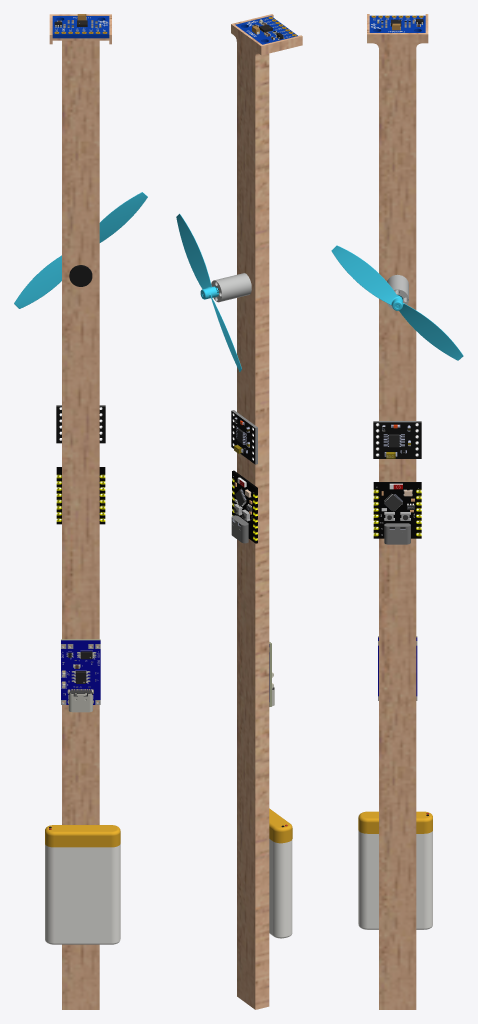
3 renders of one model, left to right at view 1: azimuth 90°, elevation 25°; view 2: azimuth 210°, elevation 25°; view 3: azimuth 270°, elevation 25°, orthographic. The views are drawn at different scales.
Parts seen in each view (by area): view 1: Solid1, Solid1:1, Solid1:2, Solid1:7, Srf1, Solid2, Solid1:8, Solid2:1, Solid1:3, Solid2:3; view 2: Solid1:1, Solid1, Solid1:2, Solid1:7, Solid2:1, Solid1:3, Solid1:6, Solid1:8, Solid2, Solid1:4; view 3: Solid1:1, Solid1, Solid1:2, Solid1:7, Solid2:1, Solid1:3, Solid2, Solid1:8, Solid1:4, Solid1:6.
Part boxes in pixels (left/top/right/bottom): Solid1: left=49, top=14, right=111, bottom=520; Solid1:1: left=62, top=520, right=99, bottom=1009; Solid1:2: left=45, top=844, right=120, bottom=944; Solid1:7: left=14, top=192, right=147, bottom=308; Srf1: left=61, top=640, right=100, bottom=704; Solid2: left=45, top=825, right=120, bottom=847; Solid1:8: left=52, top=16, right=109, bottom=38; Solid2:1: left=56, top=467, right=105, bottom=524; Solid1:3: left=56, top=405, right=105, bottom=443; Solid2:3: left=69, top=265, right=92, bottom=286; Solid1:1: left=237, top=527, right=269, bottom=1009; Solid1: left=231, top=14, right=302, bottom=529; Solid1:2: left=269, top=839, right=292, bottom=938; Solid1:7: left=176, top=213, right=241, bottom=371; Solid2:1: left=232, top=470, right=257, bottom=543; Solid1:3: left=231, top=410, right=257, bottom=464; Solid1:6: left=211, top=273, right=251, bottom=302; Solid1:8: left=235, top=16, right=297, bottom=44; Solid2: left=269, top=808, right=292, bottom=843; Solid1:4: left=231, top=515, right=248, bottom=543; Solid1:1: left=379, top=538, right=416, bottom=1009; Solid1: left=367, top=14, right=428, bottom=481; Solid1:2: left=358, top=830, right=432, bottom=929; Solid1:7: left=331, top=245, right=463, bottom=360; Solid2:1: left=373, top=482, right=421, bottom=538; Solid1:3: left=373, top=421, right=421, bottom=458; Solid2: left=358, top=811, right=432, bottom=833; Solid1:8: left=369, top=15, right=425, bottom=32; Solid1:4: left=384, top=523, right=410, bottom=544; Solid1:6: left=387, top=274, right=408, bottom=309.
Size of the model in its own units: 3.7 by 40.56 by 4.95.
64 materials, 1 textured.
